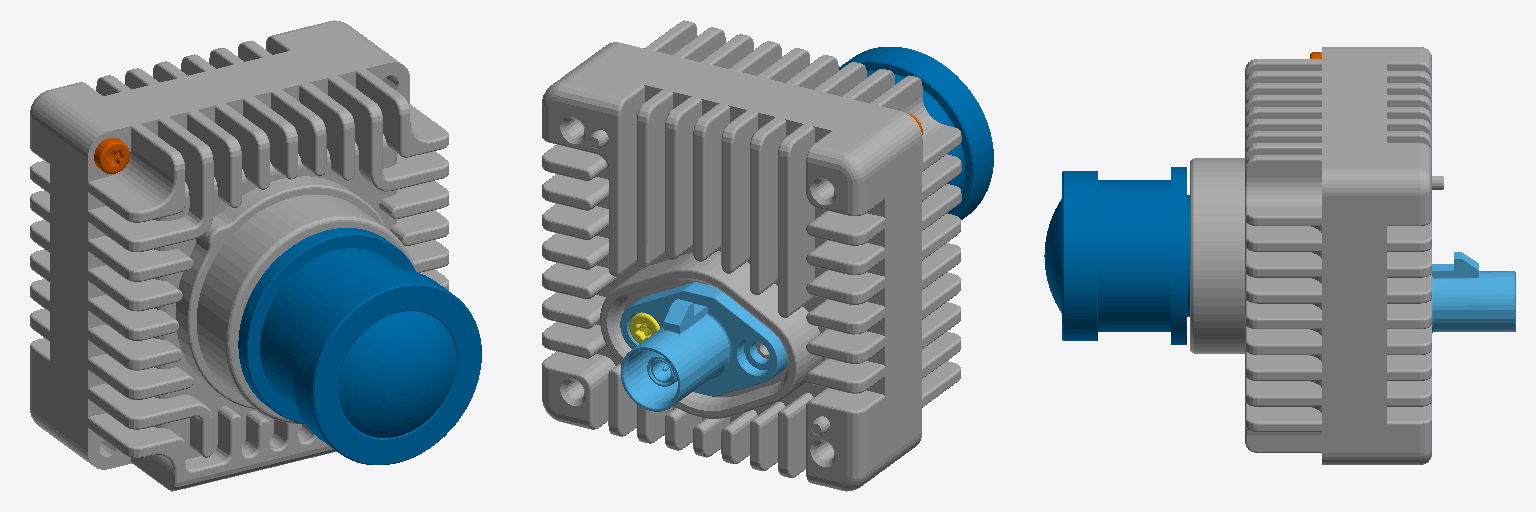
robot.urdf — SG5_IMX490C_5300_GMSL2_H110SA:
<?xml version="1.0"?>
<!-- Generated by usd2urdf.py from SG5_IMX490C_5300_GMSL2_H110SA.calibrated.acceptance.usd -->
<!-- metersPerUnit=0.01 upAxis=Z -->
<robot name="SG5_IMX490C_5300_GMSL2_H110SA">
  <link name="base_link">
  </link>
  <link name="Root">
  </link>
  <link name="SG5_IMX490C_5300_GMSL2_H110SA">
  </link>
  <link name="Lens">
  </link>
  <link name="Mesh">
    <visual>
      <origin xyz="0 0 0" rpy="0 0 0"/>
      <geometry>
        <mesh filename="meshes/Mesh.stl"/>
      </geometry>
    </visual>
    <collision>
      <origin xyz="0 0 0" rpy="0 0 0"/>
      <geometry>
        <mesh filename="meshes/Mesh.stl"/>
      </geometry>
    </collision>
    <inertial>
      <origin xyz="0 0 0" rpy="0 0 0"/>
      <mass value="0.15"/>
      <inertia ixx="0.00120999999" ixy="0" ixz="0" iyy="0.00143716967" iyz="0" izz="0.00143716967"/>
    </inertial>
  </link>
  <link name="SG5_IMX490C_5300_GMSL2_H110SA_1">
  </link>
  <link name="Screw3">
  </link>
  <link name="Mesh_1">
    <visual>
      <origin xyz="0 0 0" rpy="0 0 0"/>
      <geometry>
        <mesh filename="meshes/Mesh_1.stl"/>
      </geometry>
    </visual>
    <collision>
      <origin xyz="0 0 0" rpy="0 0 0"/>
      <geometry>
        <mesh filename="meshes/Mesh_1.stl"/>
      </geometry>
    </collision>
    <inertial>
      <origin xyz="0 0 0" rpy="0 0 0"/>
      <mass value="0.15"/>
      <inertia ixx="0.000129726923" ixy="0" ixz="0" iyy="0.000196998469" iyz="0" izz="0.0002223109"/>
    </inertial>
  </link>
  <link name="Screw2">
  </link>
  <link name="Mesh_2">
    <visual>
      <origin xyz="0 0 0" rpy="0 0 0"/>
      <geometry>
        <mesh filename="meshes/Mesh_2.stl"/>
      </geometry>
    </visual>
    <collision>
      <origin xyz="0 0 0" rpy="0 0 0"/>
      <geometry>
        <mesh filename="meshes/Mesh_2.stl"/>
      </geometry>
    </collision>
    <inertial>
      <origin xyz="0 0 0" rpy="0 0 0"/>
      <mass value="0.15"/>
      <inertia ixx="0.000129726923" ixy="0" ixz="0" iyy="0.000196998469" iyz="0" izz="0.0002223109"/>
    </inertial>
  </link>
  <link name="Screw1">
  </link>
  <link name="Mesh_3">
    <visual>
      <origin xyz="0 0 0" rpy="0 0 0"/>
      <geometry>
        <mesh filename="meshes/Mesh_3.stl"/>
      </geometry>
    </visual>
    <collision>
      <origin xyz="0 0 0" rpy="0 0 0"/>
      <geometry>
        <mesh filename="meshes/Mesh_3.stl"/>
      </geometry>
    </collision>
    <inertial>
      <origin xyz="0 0 0" rpy="0 0 0"/>
      <mass value="0.15"/>
      <inertia ixx="0.000129726923" ixy="0" ixz="0" iyy="0.000196998469" iyz="0" izz="0.0002223109"/>
    </inertial>
  </link>
  <link name="Screw0">
  </link>
  <link name="Mesh_4">
    <visual>
      <origin xyz="0 0 0" rpy="0 0 0"/>
      <geometry>
        <mesh filename="meshes/Mesh_4.stl"/>
      </geometry>
    </visual>
    <collision>
      <origin xyz="0 0 0" rpy="0 0 0"/>
      <geometry>
        <mesh filename="meshes/Mesh_4.stl"/>
      </geometry>
    </collision>
    <inertial>
      <origin xyz="0 0 0" rpy="0 0 0"/>
      <mass value="0.15"/>
      <inertia ixx="0.000129726923" ixy="0" ixz="0" iyy="0.000196998469" iyz="0" izz="0.0002223109"/>
    </inertial>
  </link>
  <link name="Bottom">
  </link>
  <link name="Mesh_5">
    <visual>
      <origin xyz="0 0 0" rpy="0 0 0"/>
      <geometry>
        <mesh filename="meshes/Mesh_5.stl"/>
      </geometry>
    </visual>
    <collision>
      <origin xyz="0 0 0" rpy="0 0 0"/>
      <geometry>
        <mesh filename="meshes/Mesh_5.stl"/>
      </geometry>
    </collision>
    <inertial>
      <origin xyz="0 0 0" rpy="0 0 0"/>
      <mass value="0.15"/>
      <inertia ixx="0.00215961258" ixy="0" ixz="0" iyy="0.00400000012" iyz="0" izz="0.00215961258"/>
    </inertial>
  </link>
  <link name="Fakra">
  </link>
  <link name="Mesh_6">
    <visual>
      <origin xyz="0 0 0" rpy="0 0 0"/>
      <geometry>
        <mesh filename="meshes/Mesh_6.stl"/>
      </geometry>
    </visual>
    <collision>
      <origin xyz="0 0 0" rpy="0 0 0"/>
      <geometry>
        <mesh filename="meshes/Mesh_6.stl"/>
      </geometry>
    </collision>
    <inertial>
      <origin xyz="0 0 0" rpy="0 0 0"/>
      <mass value="0.15"/>
      <inertia ixx="0.000664724501" ixy="0" ixz="0" iyy="0.000589528136" iyz="0" izz="0.000885196429"/>
    </inertial>
  </link>
  <link name="Screw5">
  </link>
  <link name="Mesh_7">
    <visual>
      <origin xyz="0 0 0" rpy="0 0 0"/>
      <geometry>
        <mesh filename="meshes/Mesh_7.stl"/>
      </geometry>
    </visual>
    <collision>
      <origin xyz="0 0 0" rpy="0 0 0"/>
      <geometry>
        <mesh filename="meshes/Mesh_7.stl"/>
      </geometry>
    </collision>
    <inertial>
      <origin xyz="0 0 0" rpy="0 0 0"/>
      <mass value="0.15"/>
      <inertia ixx="5.56403021e-05" ixy="0" ixz="0" iyy="6.83231456e-05" iyz="0" izz="7.4797204e-05"/>
    </inertial>
  </link>
  <link name="Screw4">
  </link>
  <link name="Mesh_8">
    <visual>
      <origin xyz="0 0 0" rpy="0 0 0"/>
      <geometry>
        <mesh filename="meshes/Mesh_8.stl"/>
      </geometry>
    </visual>
    <collision>
      <origin xyz="0 0 0" rpy="0 0 0"/>
      <geometry>
        <mesh filename="meshes/Mesh_8.stl"/>
      </geometry>
    </collision>
    <inertial>
      <origin xyz="0 0 0" rpy="0 0 0"/>
      <mass value="0.15"/>
      <inertia ixx="5.56403021e-05" ixy="0" ixz="0" iyy="6.83231456e-05" iyz="0" izz="7.4797204e-05"/>
    </inertial>
  </link>
  <link name="Top">
  </link>
  <link name="Mesh_9">
    <visual>
      <origin xyz="0 0 0" rpy="0 0 0"/>
      <geometry>
        <mesh filename="meshes/Mesh_9.stl"/>
      </geometry>
    </visual>
    <collision>
      <origin xyz="0 0 0" rpy="0 0 0"/>
      <geometry>
        <mesh filename="meshes/Mesh_9.stl"/>
      </geometry>
    </collision>
    <inertial>
      <origin xyz="0 0 0" rpy="0 0 0"/>
      <mass value="0.15"/>
      <inertia ixx="0.00259595914" ixy="0" ixz="0" iyy="0.00400000012" iyz="0" izz="0.00259595914"/>
    </inertial>
  </link>
  <link name="root_sg5_imx490c_5300_gmsl2_h110sa">
  </link>
  <joint name="base_link_to_Root" type="fixed">
    <parent link="base_link"/>
    <child link="Root"/>
    <origin xyz="0 0 0" rpy="3.14159265 -1.57054798 3.14159265"/>
  </joint>
  <joint name="Root_to_SG5_IMX490C_5300_GMSL2_H110SA" type="fixed">
    <parent link="Root"/>
    <child link="SG5_IMX490C_5300_GMSL2_H110SA"/>
    <origin xyz="0 0 0" rpy="0 0 0"/>
  </joint>
  <joint name="SG5_IMX490C_5300_GMSL2_H110SA_to_Lens" type="fixed">
    <parent link="SG5_IMX490C_5300_GMSL2_H110SA"/>
    <child link="Lens"/>
    <origin xyz="0 0.01155 0" rpy="0 0 1.57079633"/>
  </joint>
  <joint name="Lens_to_Mesh" type="fixed">
    <parent link="Lens"/>
    <child link="Mesh"/>
    <origin xyz="-0.129009275 0 0" rpy="0 0 0"/>
  </joint>
  <joint name="Mesh_to_SG5_IMX490C_5300_GMSL2_H110SA_1" type="fixed">
    <parent link="Mesh"/>
    <child link="SG5_IMX490C_5300_GMSL2_H110SA_1"/>
    <origin xyz="-0.144326626 0.00111770174 -6.33899169e-05" rpy="3.14159265 -1.57079633 0"/>
  </joint>
  <joint name="SG5_IMX490C_5300_GMSL2_H110SA_to_Screw3" type="fixed">
    <parent link="SG5_IMX490C_5300_GMSL2_H110SA"/>
    <child link="Screw3"/>
    <origin xyz="-14.0896902 -3.40320256 4.46057661" rpy="2.12494531 -0.27934304 0.999193737"/>
  </joint>
  <joint name="Screw3_to_Mesh_1" type="fixed">
    <parent link="Screw3"/>
    <child link="Mesh_1"/>
    <origin xyz="8.91419006 -0.812458611 12.0200391" rpy="0 0 0"/>
  </joint>
  <joint name="SG5_IMX490C_5300_GMSL2_H110SA_to_Screw2" type="fixed">
    <parent link="SG5_IMX490C_5300_GMSL2_H110SA"/>
    <child link="Screw2"/>
    <origin xyz="-14.0896902 -3.40320256 4.11257661" rpy="2.12494531 -0.27934304 0.999193737"/>
  </joint>
  <joint name="Screw2_to_Mesh_2" type="fixed">
    <parent link="Screw2"/>
    <child link="Mesh_2"/>
    <origin xyz="8.91419006 -0.812458611 12.0200391" rpy="0 0 0"/>
  </joint>
  <joint name="SG5_IMX490C_5300_GMSL2_H110SA_to_Screw1" type="fixed">
    <parent link="SG5_IMX490C_5300_GMSL2_H110SA"/>
    <child link="Screw1"/>
    <origin xyz="-13.7416902 -3.40320256 4.11257661" rpy="2.12494531 -0.27934304 0.999193737"/>
  </joint>
  <joint name="Screw1_to_Mesh_3" type="fixed">
    <parent link="Screw1"/>
    <child link="Mesh_3"/>
    <origin xyz="8.91419006 -0.812458611 12.0200391" rpy="0 0 0"/>
  </joint>
  <joint name="SG5_IMX490C_5300_GMSL2_H110SA_to_Screw0" type="fixed">
    <parent link="SG5_IMX490C_5300_GMSL2_H110SA"/>
    <child link="Screw0"/>
    <origin xyz="-13.7416902 -3.40320256 4.46057661" rpy="2.12494531 -0.27934304 0.999193737"/>
  </joint>
  <joint name="Screw0_to_Mesh_4" type="fixed">
    <parent link="Screw0"/>
    <child link="Mesh_4"/>
    <origin xyz="8.91419006 -0.812458611 12.0200391" rpy="0 0 0"/>
  </joint>
  <joint name="SG5_IMX490C_5300_GMSL2_H110SA_to_Bottom" type="fixed">
    <parent link="SG5_IMX490C_5300_GMSL2_H110SA"/>
    <child link="Bottom"/>
    <origin xyz="0 0.14 0" rpy="0 0 0"/>
  </joint>
  <joint name="Bottom_to_Mesh_5" type="fixed">
    <parent link="Bottom"/>
    <child link="Mesh_5"/>
    <origin xyz="0 0.0484999999 0" rpy="0 0 0"/>
  </joint>
  <joint name="SG5_IMX490C_5300_GMSL2_H110SA_to_Fakra" type="fixed">
    <parent link="SG5_IMX490C_5300_GMSL2_H110SA"/>
    <child link="Fakra"/>
    <origin xyz="-0.0622 0.3245 0" rpy="1.57079633 0 1.57079633"/>
  </joint>
  <joint name="Fakra_to_Mesh_6" type="fixed">
    <parent link="Fakra"/>
    <child link="Mesh_6"/>
    <origin xyz="-0.0820000038 3.71932983e-07 0.00174999952" rpy="0 0 0"/>
  </joint>
  <joint name="SG5_IMX490C_5300_GMSL2_H110SA_to_Screw5" type="fixed">
    <parent link="SG5_IMX490C_5300_GMSL2_H110SA"/>
    <child link="Screw5"/>
    <origin xyz="-10.3205836 3.71270256 -10.4017669" rpy="-0.609497395 -0.00159299842 -0.941488132"/>
  </joint>
  <joint name="Screw5_to_Mesh_7" type="fixed">
    <parent link="Screw5"/>
    <child link="Mesh_7"/>
    <origin xyz="8.88992004 -0.797999001 12.0301788" rpy="0 0 0"/>
  </joint>
  <joint name="SG5_IMX490C_5300_GMSL2_H110SA_to_Screw4" type="fixed">
    <parent link="SG5_IMX490C_5300_GMSL2_H110SA"/>
    <child link="Screw4"/>
    <origin xyz="-10.3205836 3.71270256 -10.2657669" rpy="-0.609497395 -0.00159299842 -0.941488132"/>
  </joint>
  <joint name="Screw4_to_Mesh_8" type="fixed">
    <parent link="Screw4"/>
    <child link="Mesh_8"/>
    <origin xyz="8.88992004 -0.797999001 12.0301788" rpy="0 0 0"/>
  </joint>
  <joint name="SG5_IMX490C_5300_GMSL2_H110SA_to_Top" type="fixed">
    <parent link="SG5_IMX490C_5300_GMSL2_H110SA"/>
    <child link="Top"/>
    <origin xyz="0 0 0" rpy="0 0 0"/>
  </joint>
  <joint name="Top_to_Mesh_9" type="fixed">
    <parent link="Top"/>
    <child link="Mesh_9"/>
    <origin xyz="0 0.0418250012 0" rpy="0 0 0"/>
  </joint>
  <joint name="SG5_IMX490C_5300_GMSL2_H110SA_to_root_sg5_imx490c_5300_gmsl2_h110sa" type="fixed">
    <parent link="SG5_IMX490C_5300_GMSL2_H110SA"/>
    <child link="root_sg5_imx490c_5300_gmsl2_h110sa"/>
    <origin xyz="-0.00111770174 -0.261785902 -6.33899169e-05" rpy="1.57079633 -1.57079633 0"/>
  </joint>
</robot>

--- Facts derived from the render (not from the file) ---
Views: 3 orthographic renders of the robot side by side, from view 1: azimuth 30°, elevation 25°; view 2: azimuth 150°, elevation 25°; view 3: azimuth 270°, elevation 25°.
Model SG5_IMX490C_5300_GMSL2_H110SA with 25 links and 24 joints (24 fixed), rooted at base_link, posed every joint at zero.
Links seen in each view (by area): view 1: Mesh_9, Mesh, Mesh_5, Mesh_4; view 2: Mesh_5, Mesh_9, Mesh_6, Mesh, Mesh_7; view 3: Mesh_9, Mesh_5, Mesh, Mesh_6.
Boxes of the visible links, x1,y1,x2,y2 form: Mesh_9: (67, 47, 448, 491); Mesh: (238, 228, 481, 464); Mesh_5: (30, 20, 380, 448); Mesh_4: (94, 138, 129, 173); Mesh_5: (542, 58, 901, 491); Mesh_9: (588, 20, 961, 460); Mesh_6: (620, 282, 787, 411); Mesh: (839, 47, 993, 219); Mesh_7: (629, 312, 659, 343); Mesh_9: (1190, 47, 1358, 464); Mesh_5: (1359, 47, 1443, 464); Mesh: (1044, 167, 1189, 344); Mesh_6: (1432, 252, 1515, 332).
Size in the robot's own frame: 0.4001 by 0.579 by 0.4001 metres.
Meshes: 10 distinct files referenced, 6 mesh visuals loaded (6 binary STL); not drawn: 4 (reference not matched to a file when rendering).
